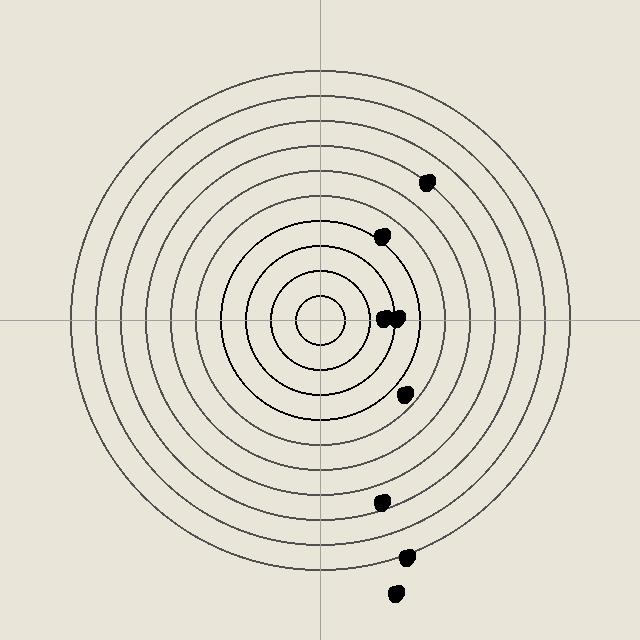vertical_scatter: (396, 547, 416, 567), (373, 308, 393, 328), (416, 172, 436, 192), (371, 226, 391, 246), (385, 583, 405, 603), (394, 384, 414, 404), (386, 308, 406, 328), (371, 492, 391, 512)
